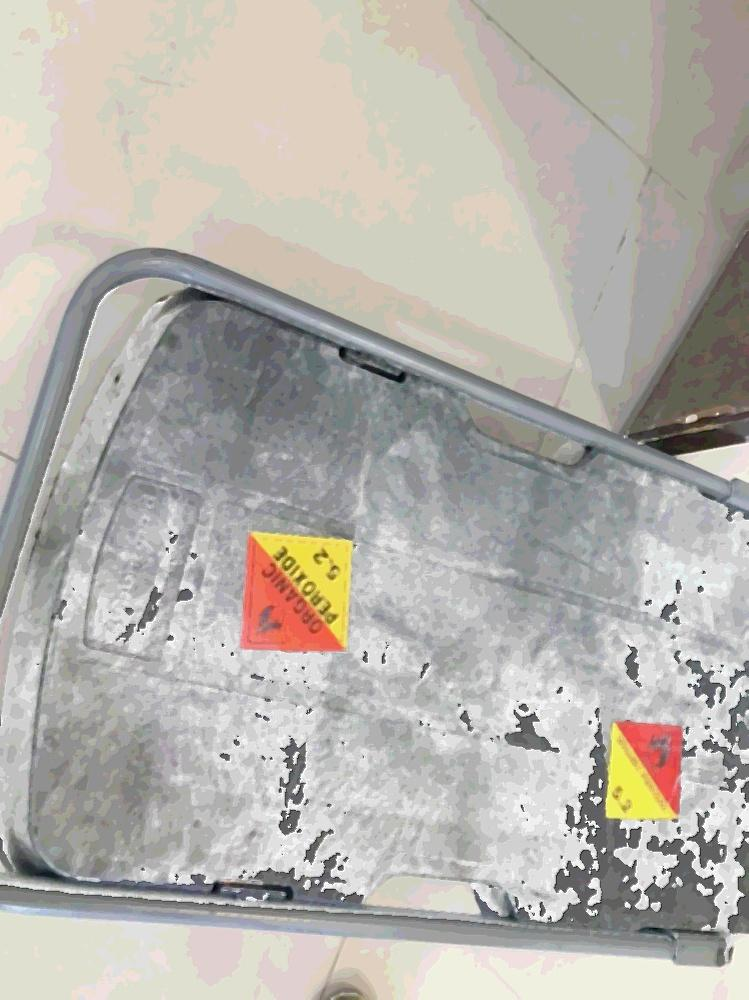organic-peroxide: (240, 529, 353, 656), (606, 719, 685, 824)
